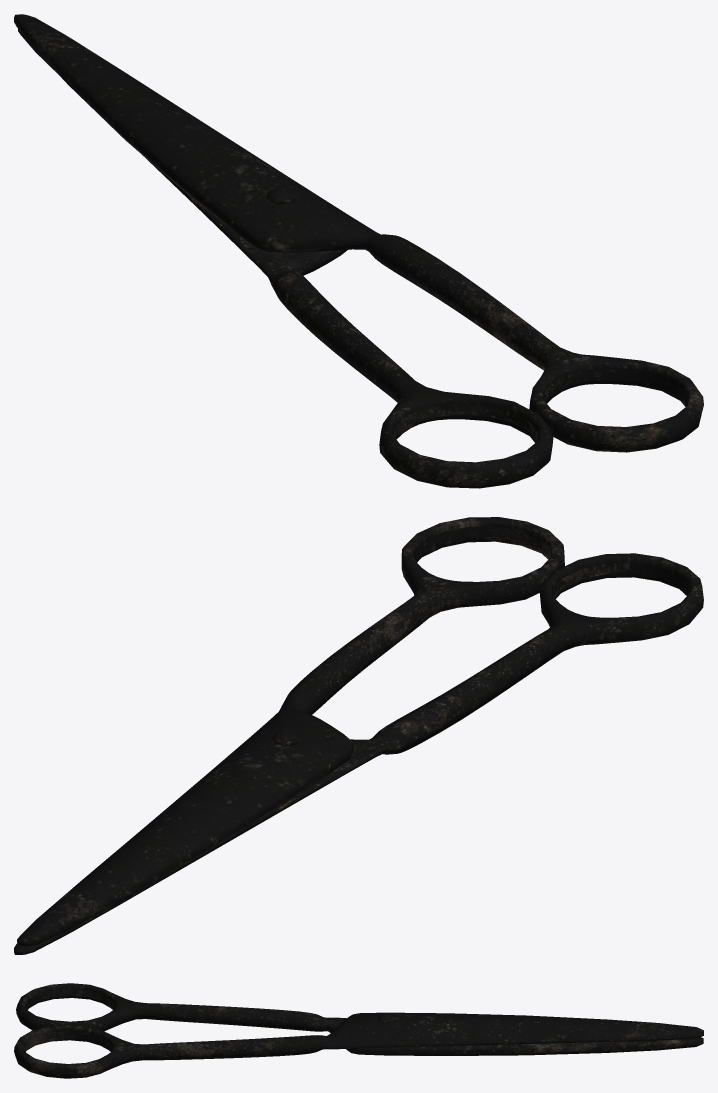
Rendered from scissors1.glb.
3 renders of one model, top to bottom at view 1: azimuth 30°, elevation 25°; view 2: azimuth 150°, elevation 25°; view 3: azimuth 270°, elevation 25°, orthographic. The views are drawn at different scales.
Visible parts, largest first — view 1: Skarje_Type_01_LOD1; view 2: Skarje_Type_01_LOD1; view 3: Skarje_Type_01_LOD1.
Boxes of the visible parts, bbox=[...] form: Skarje_Type_01_LOD1: bbox=[14, 14, 703, 488]; Skarje_Type_01_LOD1: bbox=[14, 517, 703, 954]; Skarje_Type_01_LOD1: bbox=[14, 983, 703, 1078].
Bounding box in the file's own units: 0.0793 × 0.0166 × 0.2713.
1 material, 1 textured.
